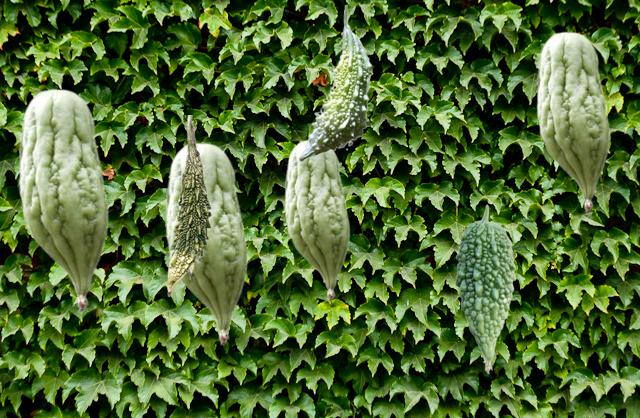ampalaya: (18, 88, 108, 311), (165, 142, 247, 344), (536, 31, 609, 212), (298, 5, 372, 161), (284, 139, 349, 300), (454, 204, 515, 373), (167, 115, 211, 296)
